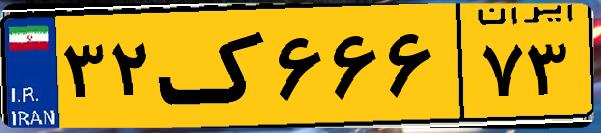2: (110, 28, 158, 98)
3: (57, 26, 110, 100), (525, 38, 570, 115)
6: (270, 28, 330, 110), (385, 28, 445, 110), (330, 28, 385, 110)
7: (475, 38, 525, 113)
ک: (158, 12, 270, 120)
